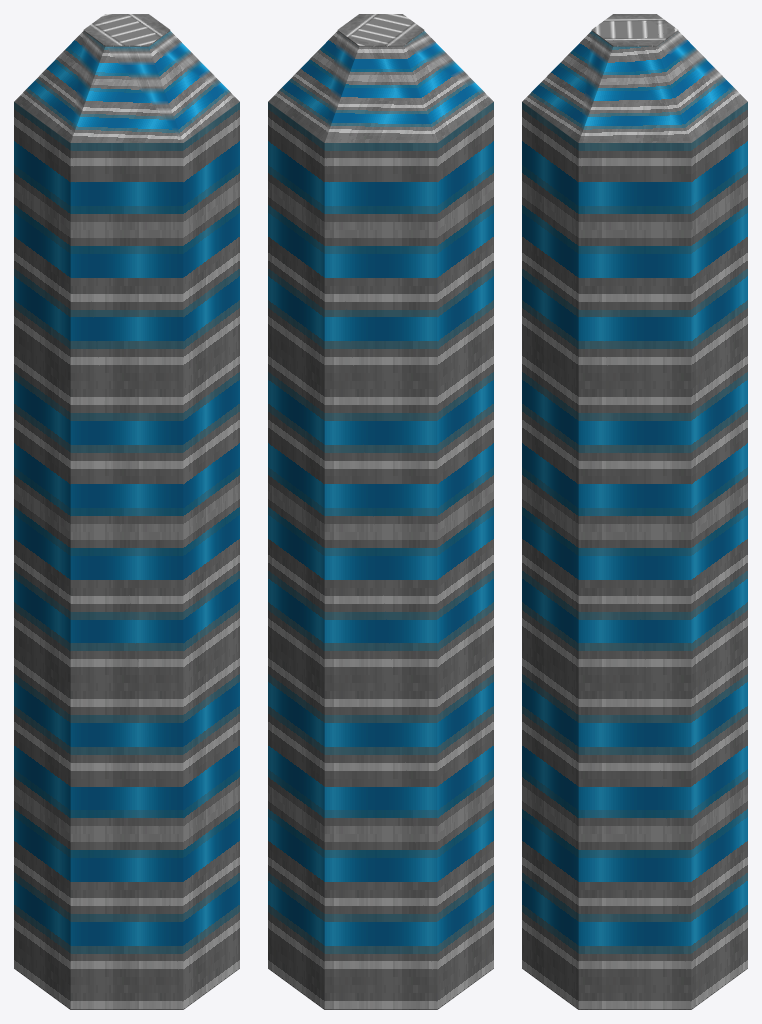
File: building2.glb
The picture shows the model from 3 angles, left to right: view 1: azimuth 30°, elevation 25°; view 2: azimuth 150°, elevation 25°; view 3: azimuth 270°, elevation 25°; orthographic projection.
Parts seen in each view (by area): view 1: building2; view 2: building2; view 3: building2.
Part boxes in pixels (bbox=[...]): building2: bbox=[14, 14, 239, 1009]; building2: bbox=[268, 14, 493, 1009]; building2: bbox=[522, 14, 747, 1009].
Bounding box in the file's own units: 9.12 × 48.31 × 10.54.
2 materials, 2 textured.
